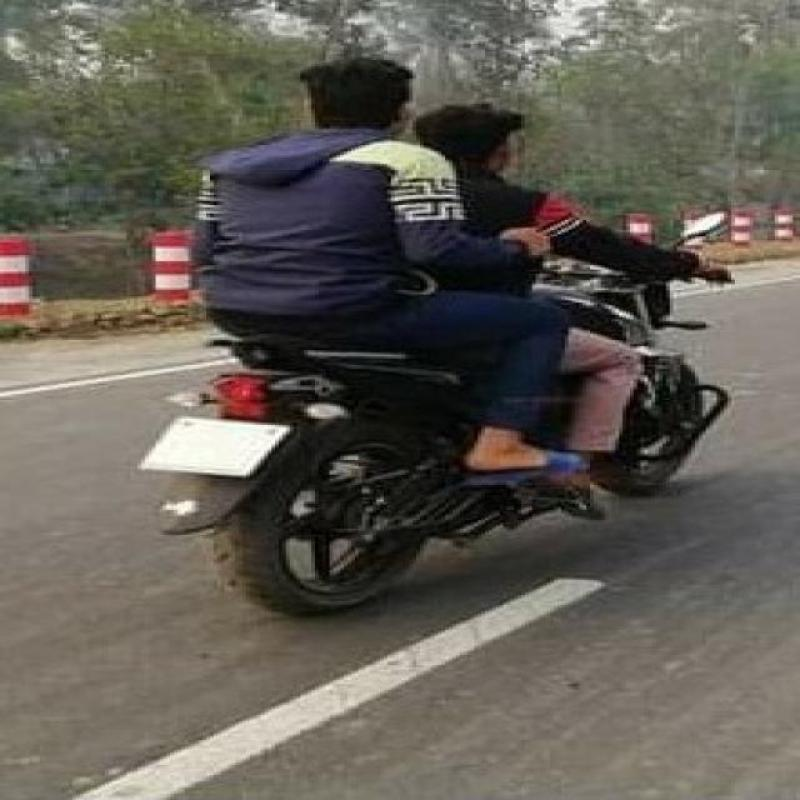nohelmet: (286, 46, 411, 144), (414, 88, 520, 176)
